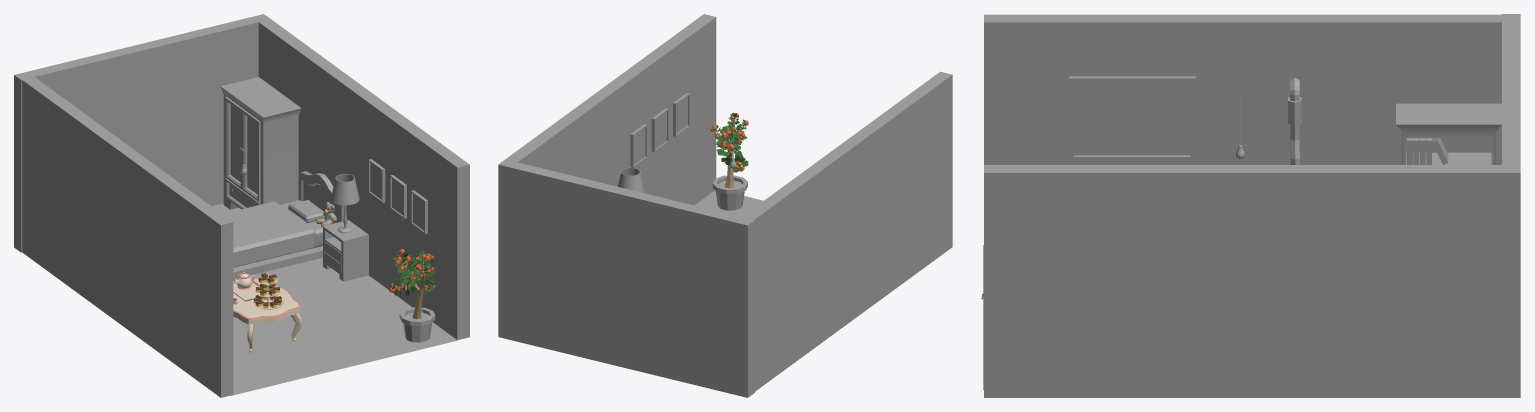
File: Teacup_room.fbx
The picture shows the model from 3 angles, left to right: view 1: azimuth 30°, elevation 25°; view 2: azimuth 150°, elevation 25°; view 3: azimuth 270°, elevation 25°; orthographic projection. The views are drawn at different scales.
Visible parts, largest first — view 1: walls, polySurface110, polySurface585, polySurface688, tree_polySurface887, polySurface613, polySurface685, table, MrDeer_room:MrDeer_room:polySurface648, cakething_15, polySurface643; view 2: walls, tree_polySurface887, polySurface685, polySurface110, MrDeer_room:MrDeer_room:polySurface648; view 3: walls, polySurface686, polySurface657, polySurface15.
Part boxes in pixels (left/top/right/bottom): walls: left=14, top=14, right=469, bottom=397; polySurface110: left=212, top=203, right=457, bottom=395; polySurface585: left=220, top=77, right=301, bottom=209; polySurface688: left=222, top=171, right=344, bottom=279; tree_polySurface887: left=388, top=247, right=437, bottom=342; polySurface613: left=323, top=220, right=368, bottom=281; polySurface685: left=368, top=159, right=427, bottom=234; table: left=233, top=278, right=302, bottom=352; MrDeer_room:MrDeer_room:polySurface648: left=331, top=174, right=359, bottom=233; cakething_15: left=253, top=273, right=281, bottom=308; polySurface643: left=233, top=200, right=322, bottom=267; walls: left=498, top=14, right=952, bottom=397; tree_polySurface887: left=710, top=113, right=748, bottom=210; polySurface685: left=630, top=93, right=689, bottom=167; polySurface110: left=694, top=190, right=763, bottom=216; MrDeer_room:MrDeer_room:polySurface648: left=618, top=167, right=645, bottom=193; walls: left=984, top=14, right=1520, bottom=397; polySurface686: left=1069, top=76, right=1195, bottom=160; polySurface657: left=1396, top=103, right=1501, bottom=164; polySurface15: left=1288, top=77, right=1301, bottom=164.
Size of the model in its own units: 32.93 by 21.92 by 47.24.
